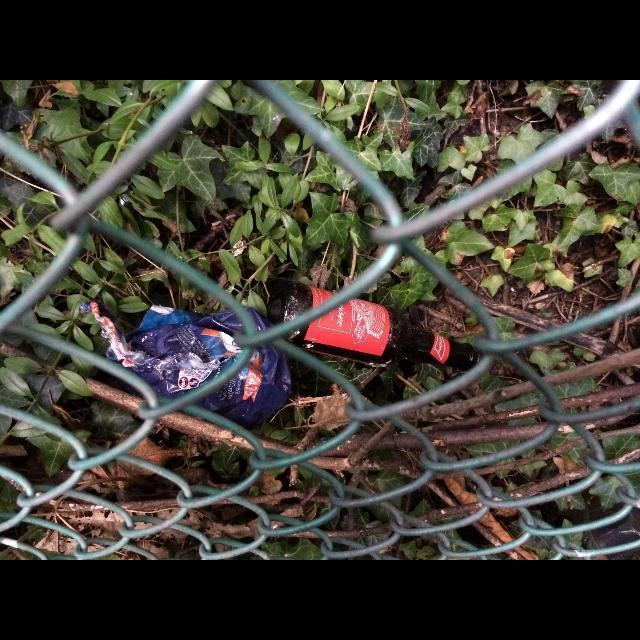Glass: (266, 280, 480, 370)
Plastic: (80, 300, 292, 430)
